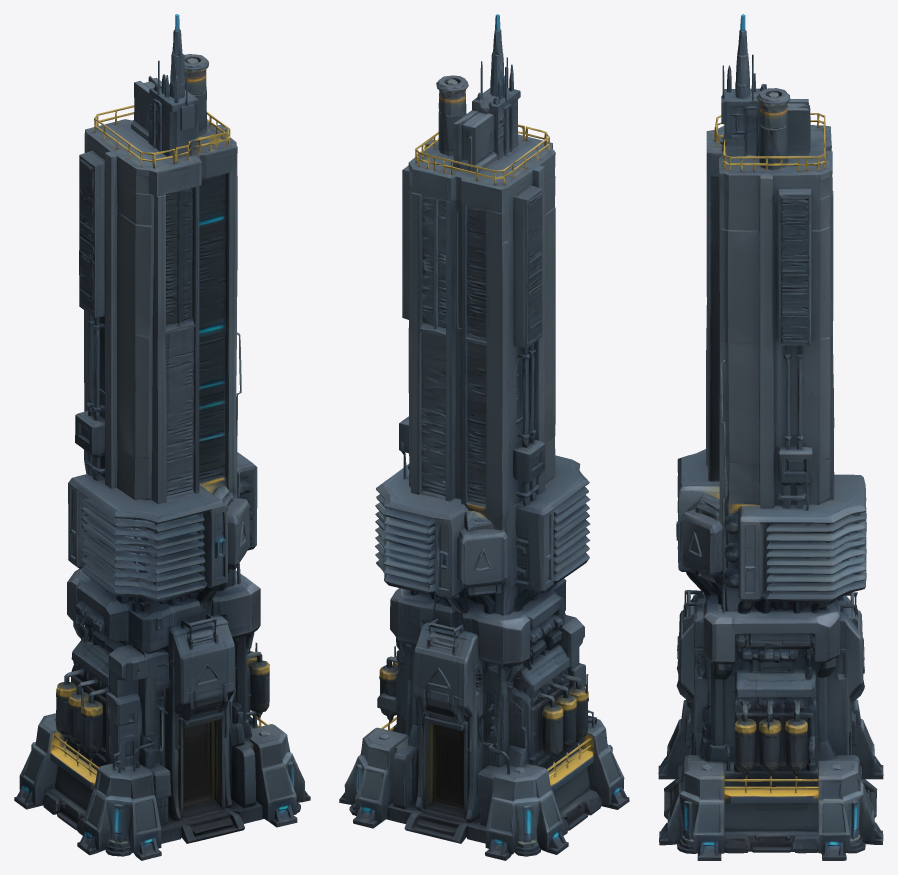
Rendered from source.glb.
3 renders of one model, left to right at view 1: azimuth 30°, elevation 25°; view 2: azimuth 150°, elevation 25°; view 3: azimuth 270°, elevation 25°, orthographic. The views are drawn at different scales.
Visible parts, largest first — view 1: model; view 2: model; view 3: model.
Part boxes in pixels (<box>): model: <box>14,14,310,860</box>; model: <box>339,14,629,860</box>; model: <box>658,14,883,860</box>.
Size of the model in its own units: 0.5549 by 1.89 by 0.4874.
Materials: 1 (1 with a texture image).
